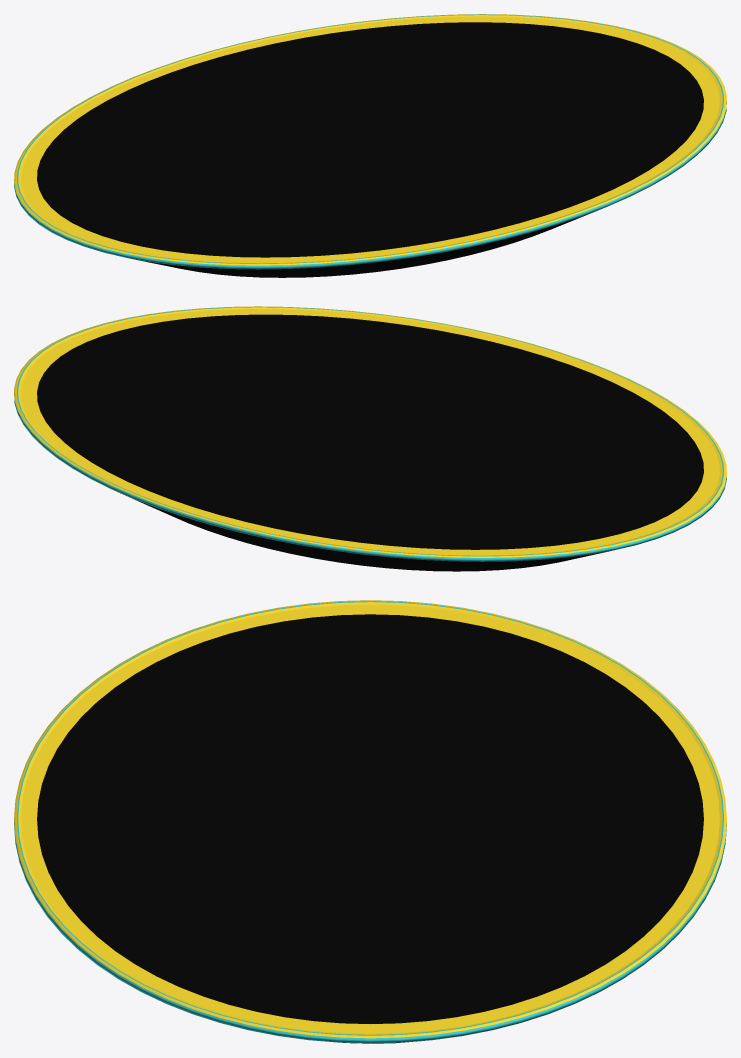
File: Upper Floating Platform.FBX
3 renders of one model, top to bottom at view 1: azimuth 30°, elevation 25°; view 2: azimuth 150°, elevation 25°; view 3: azimuth 270°, elevation 25°, orthographic. The views are drawn at different scales.
Visible parts, largest first — view 1: Cylinder007; view 2: Cylinder007; view 3: Cylinder007.
Boxes of the visible parts, x1=… form: Cylinder007: x1=14, y1=14, x2=726, y2=277; Cylinder007: x1=14, y1=306, x2=726, y2=571; Cylinder007: x1=14, y1=600, x2=726, y2=1043.
Bounding box in the file's own units: 40.41 × 2.67 × 27.79.
